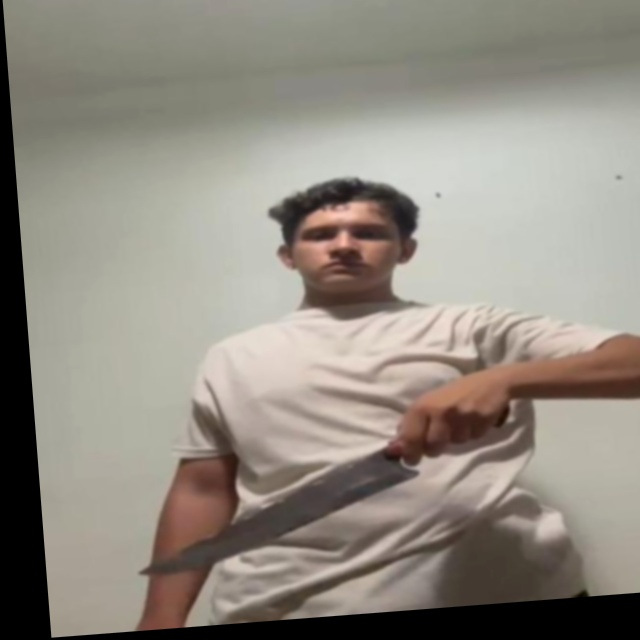Sharp-Object: (127, 445, 421, 574)
